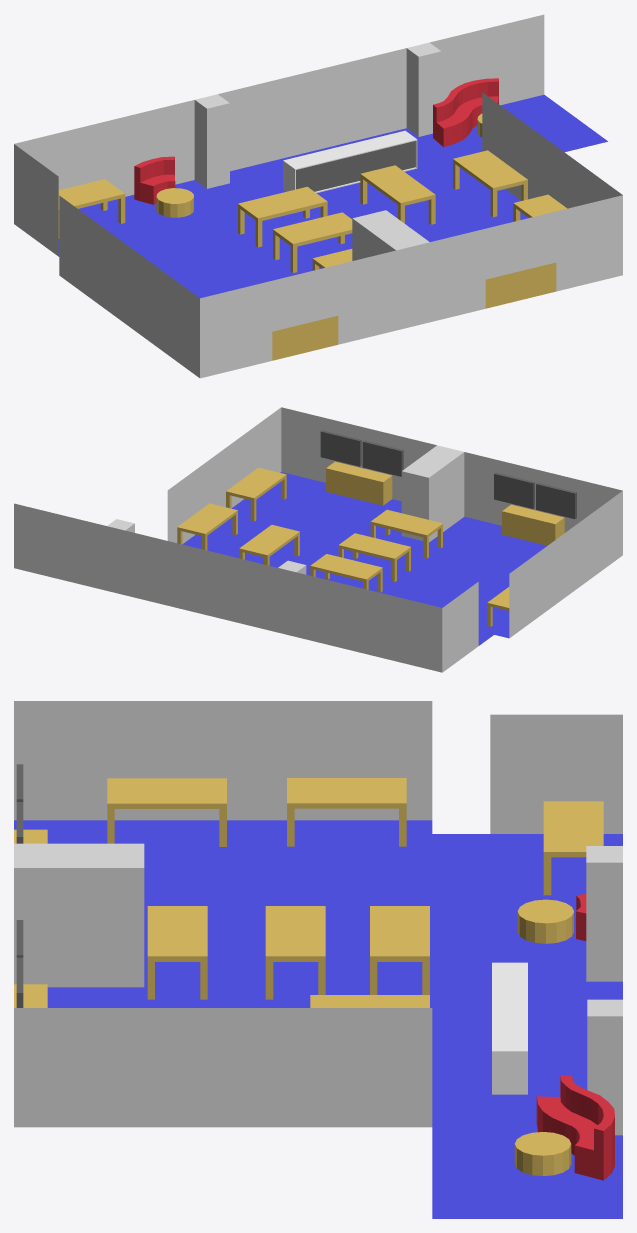
Rendered from asset.glb.
The picture shows the model from 3 angles, top to bottom: view 1: azimuth 30°, elevation 25°; view 2: azimuth 150°, elevation 25°; view 3: azimuth 270°, elevation 25°; orthographic projection. The views are drawn at different scales.
Parts seen in each view (by area): view 1: Floor, Cube.003, Cube.019, Cube.021, Cube.010, Cube.020, Cube.005, Cube.008, Cube.004, Cube.022, Cube.011, Cylinder.001 (+2 smaller); view 2: Floor, Cube.005, Cube.004, Cube.006, Cube.008, Cube.009, Cube.021, Cube.020, Cube.010, Cube.014, Cube.013, Cube.016 (+2 smaller); view 3: Floor, Cube.019, Cube.003, Cube.017, Cube.007, Cube.006, Cube.008, Cube.021, Cube.022, Cylinder, Cylinder.001, Cube.010.
Part boxes in pixels (x1=…): Floor: x1=14, y1=14, x2=622, y2=378; Cube.003: x1=283, y1=130, x2=417, y2=192; Cube.019: x1=433, y1=78, x2=498, y2=146; Cube.021: x1=238, y1=186, x2=327, y2=247; Cube.010: x1=360, y1=165, x2=435, y2=224; Cube.020: x1=453, y1=150, x2=527, y2=217; Cube.005: x1=485, y1=262, x2=556, y2=308; Cube.008: x1=273, y1=212, x2=352, y2=272; Cube.004: x1=272, y1=315, x2=338, y2=360; Cube.022: x1=58, y1=179, x2=125, y2=238; Cube.011: x1=134, y1=156, x2=175, y2=204; Cylinder.001: x1=156, y1=188, x2=193, y2=217; Floor: x1=14, y1=407, x2=622, y2=672; Cube.005: x1=326, y1=461, x2=392, y2=505; Cube.004: x1=502, y1=504, x2=564, y2=545; Cube.006: x1=370, y1=509, x2=442, y2=558; Cube.008: x1=338, y1=533, x2=410, y2=582; Cube.009: x1=226, y1=467, x2=286, y2=521; Cube.021: x1=310, y1=554, x2=382, y2=592; Cube.020: x1=177, y1=503, x2=237, y2=550; Cube.010: x1=239, y1=525, x2=299, y2=565; Cube.014: x1=320, y1=430, x2=361, y2=466; Cube.013: x1=362, y1=440, x2=403, y2=476; Cube.016: x1=494, y1=472, x2=534, y2=508; Floor: x1=14, y1=701, x2=622, y2=1218; Cube.019: x1=536, y1=1075, x2=614, y2=1180; Cube.003: x1=492, y1=962, x2=527, y2=1094; Cube.017: x1=287, y1=778, x2=406, y2=846; Cube.007: x1=107, y1=778, x2=226, y2=846; Cube.006: x1=147, y1=906, x2=207, y2=999; Cube.008: x1=265, y1=906, x2=325, y2=999; Cube.021: x1=370, y1=906, x2=429, y2=994; Cube.022: x1=543, y1=801, x2=603, y2=895; Cylinder: x1=514, y1=1132, x2=571, y2=1175; Cylinder.001: x1=517, y1=899, x2=573, y2=943; Cube.010: x1=310, y1=995, x2=429, y2=1007.
Size of the model in its own units: 0.0525 by 0.00733 by 0.0339.
